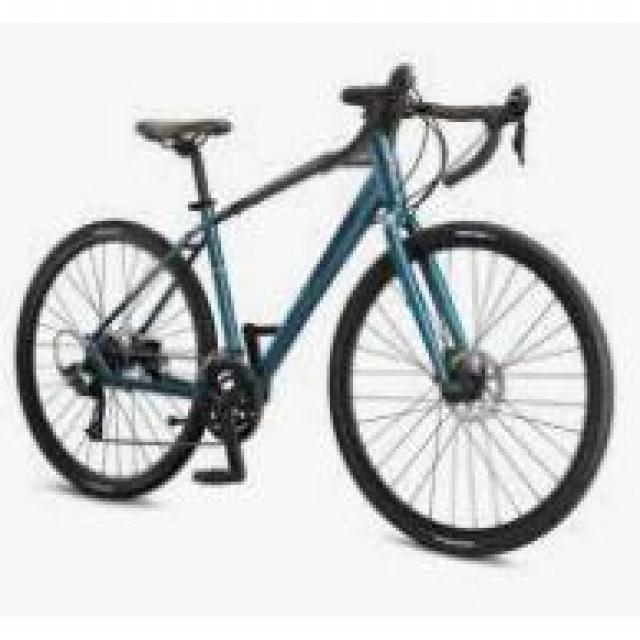bicycle: (38, 67, 625, 562)
